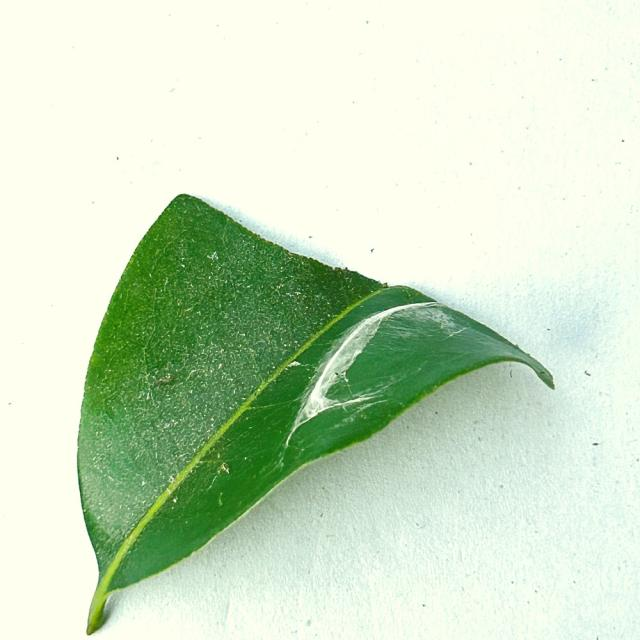Deficiency Leaf: (180, 178, 562, 358)
Lychee: (76, 194, 554, 635)
